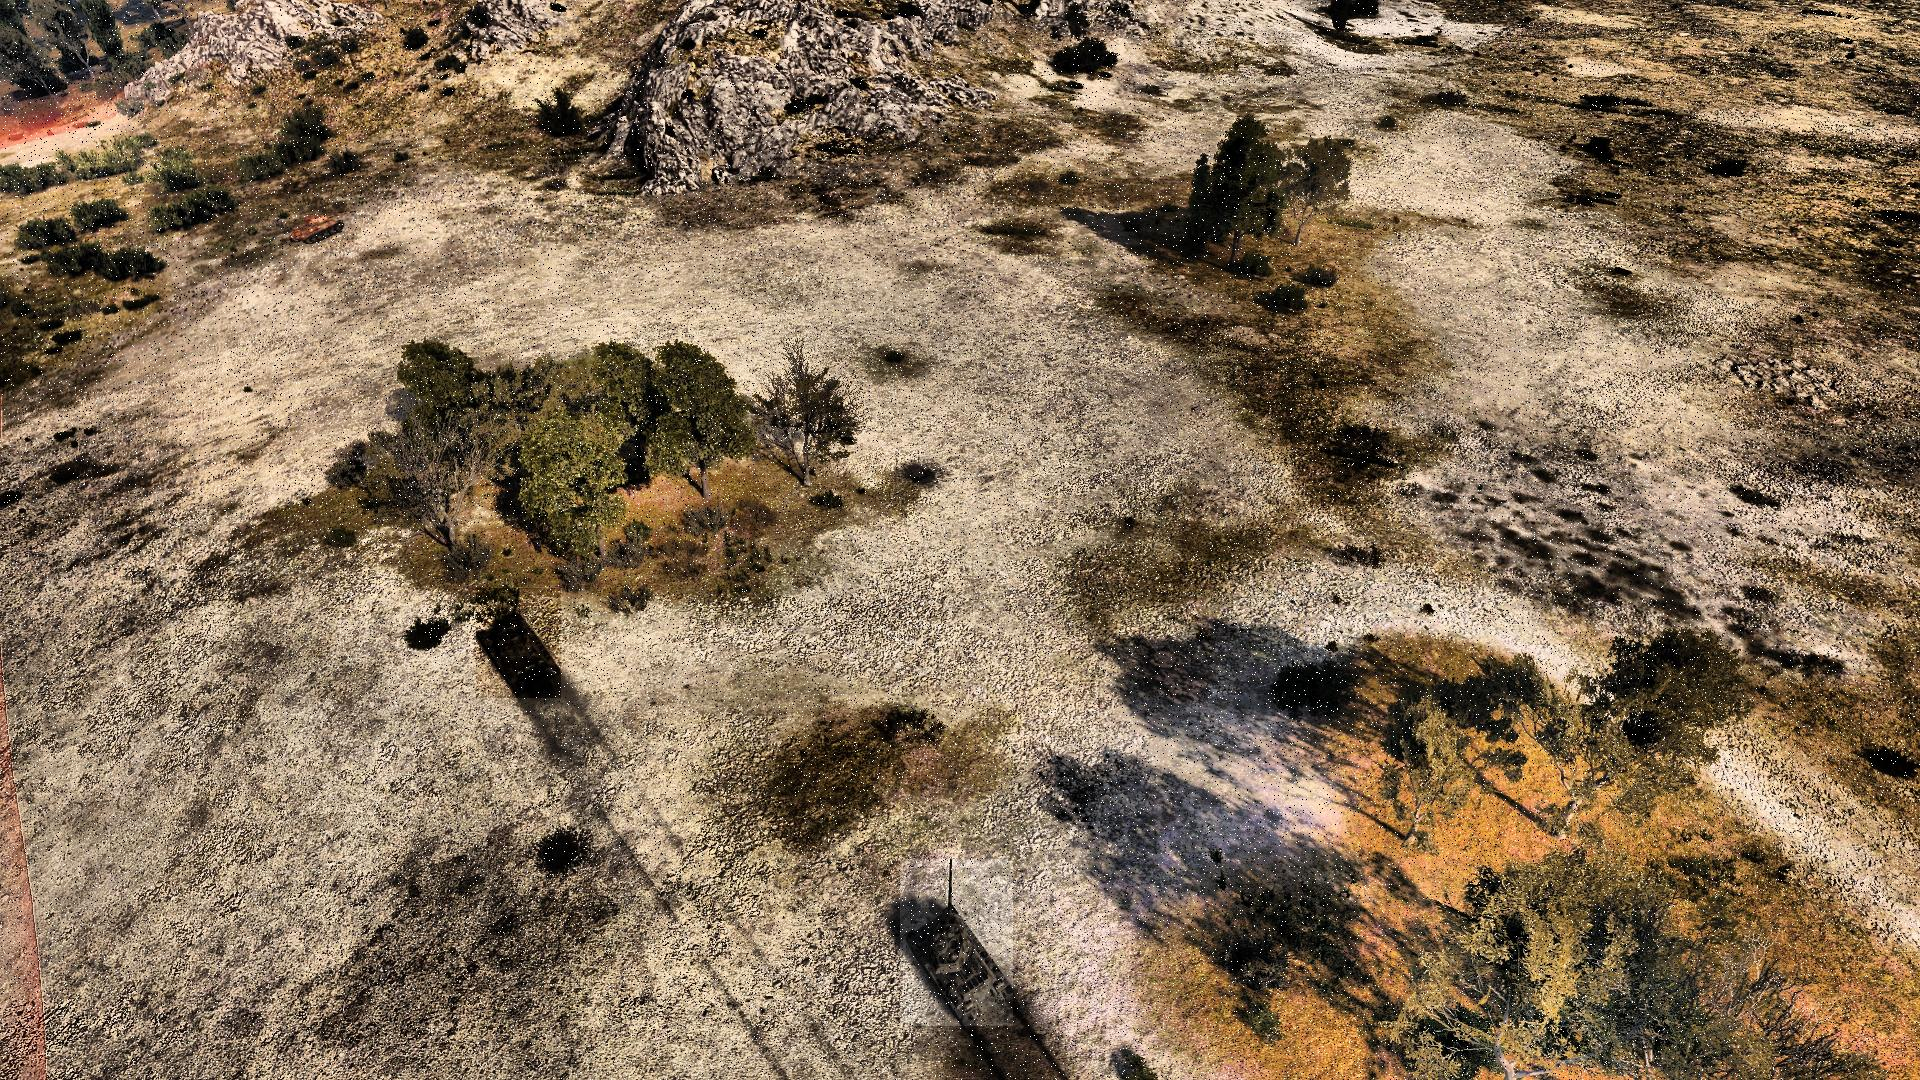military-vehicle: (901, 860, 1013, 1027), (476, 588, 562, 699)
